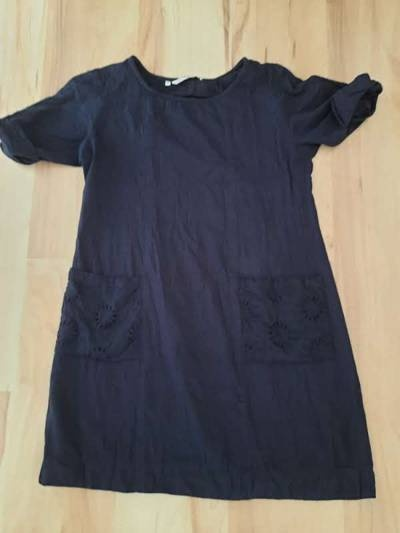Dress: (5, 38, 391, 509)
